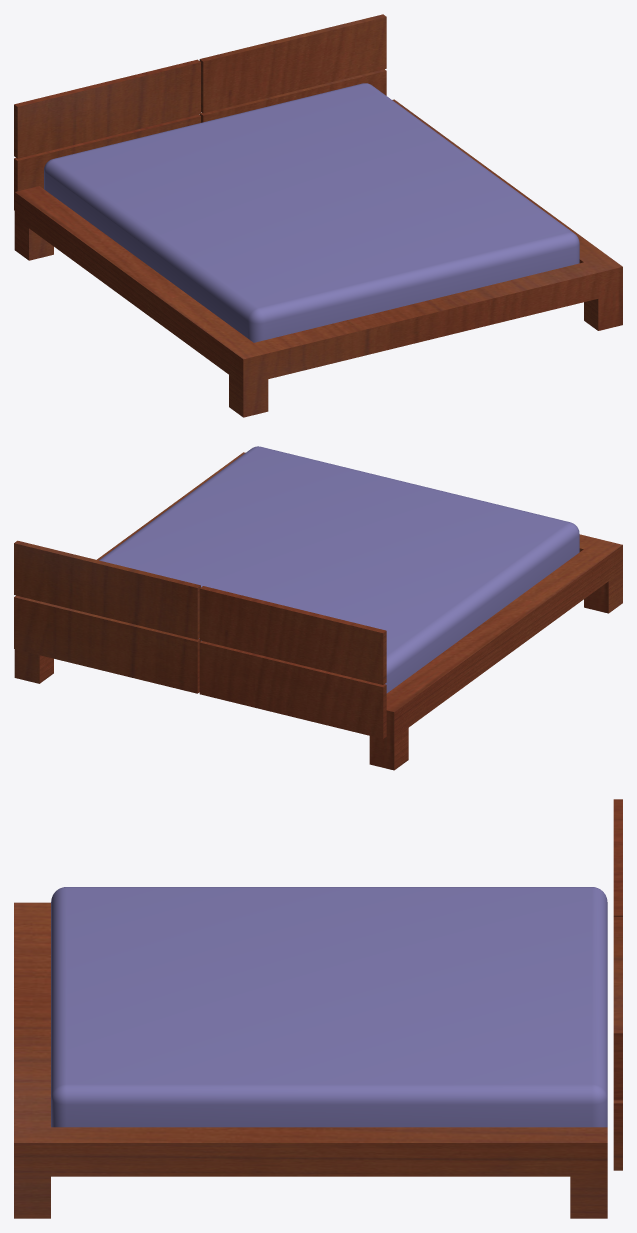
Rendered from sweethome3d-lucapresidente-bed-cherry.glb.
3 renders of one model, top to bottom at view 1: azimuth 30°, elevation 25°; view 2: azimuth 150°, elevation 25°; view 3: azimuth 270°, elevation 25°, orthographic. The views are drawn at different scales.
Parts seen in each view (by area): view 1: ChamferBox01_1, Line03_7, Box31_5, Box32_9, Box30_4, Box29_10, Box24_3, Box23_6, Box35_2; view 2: ChamferBox01_1, Line03_7, Box31_5, Box32_9, Box30_4, Box29_10, Box35_2, Box36_8, Box24_3; view 3: ChamferBox01_1, Line03_7, Box32_9, Box36_8, Box23_6, Box31_5, Box29_10.
Part boxes in pixels (x1=…): ChamferBox01_1: x1=44, y1=83, x2=579, y2=342; Line03_7: x1=14, y1=99, x2=622, y2=385; Box31_5: x1=14, y1=59, x2=200, y2=158; Box32_9: x1=199, y1=14, x2=386, y2=113; Box30_4: x1=14, y1=114, x2=200, y2=210; Box29_10: x1=199, y1=69, x2=386, y2=122; Box24_3: x1=229, y1=375, x2=268, y2=417; Box23_6: x1=584, y1=293, x2=622, y2=330; Box35_2: x1=14, y1=218, x2=53, y2=260; ChamferBox01_1: x1=99, y1=446, x2=579, y2=693; Line03_7: x1=97, y1=452, x2=622, y2=737; Box31_5: x1=199, y1=586, x2=386, y2=684; Box32_9: x1=14, y1=540, x2=200, y2=639; Box30_4: x1=199, y1=641, x2=386, y2=738; Box29_10: x1=14, y1=595, x2=200, y2=693; Box35_2: x1=369, y1=728, x2=408, y2=770; Box36_8: x1=14, y1=649, x2=53, y2=683; Box24_3: x1=584, y1=571, x2=622, y2=613; ChamferBox01_1: x1=51, y1=887, x2=607, y2=1127; Line03_7: x1=14, y1=902, x2=607, y2=1176; Box32_9: x1=613, y1=917, x2=622, y2=1100; Box36_8: x1=570, y1=1176, x2=607, y2=1218; Box23_6: x1=14, y1=1176, x2=50, y2=1218; Box31_5: x1=613, y1=799, x2=622, y2=916; Box29_10: x1=613, y1=1100, x2=622, y2=1170.
Size of the model in its own units: 184 by 65 by 197.
2 materials, 1 textured.
